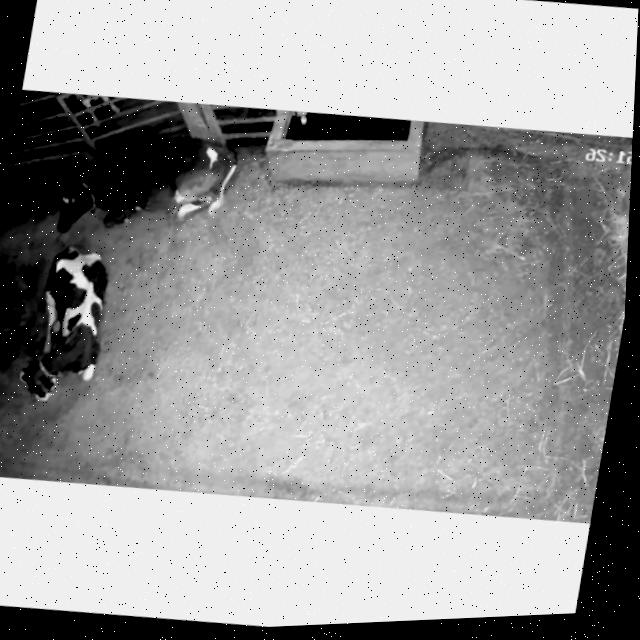lay: (32, 106, 252, 262), (3, 232, 135, 420)
